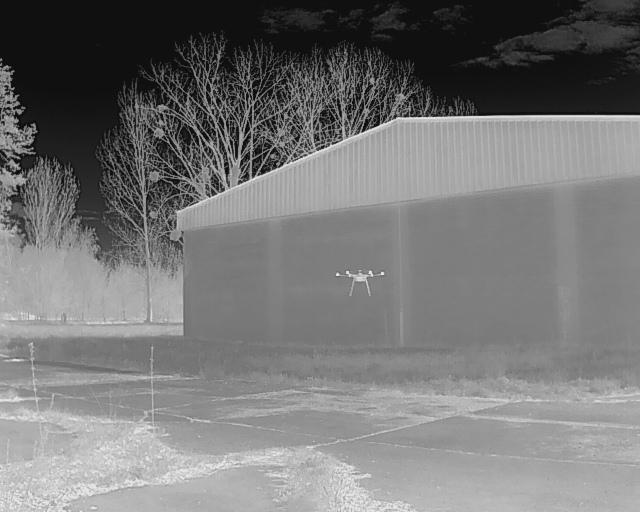drone: (327, 262, 391, 304)
